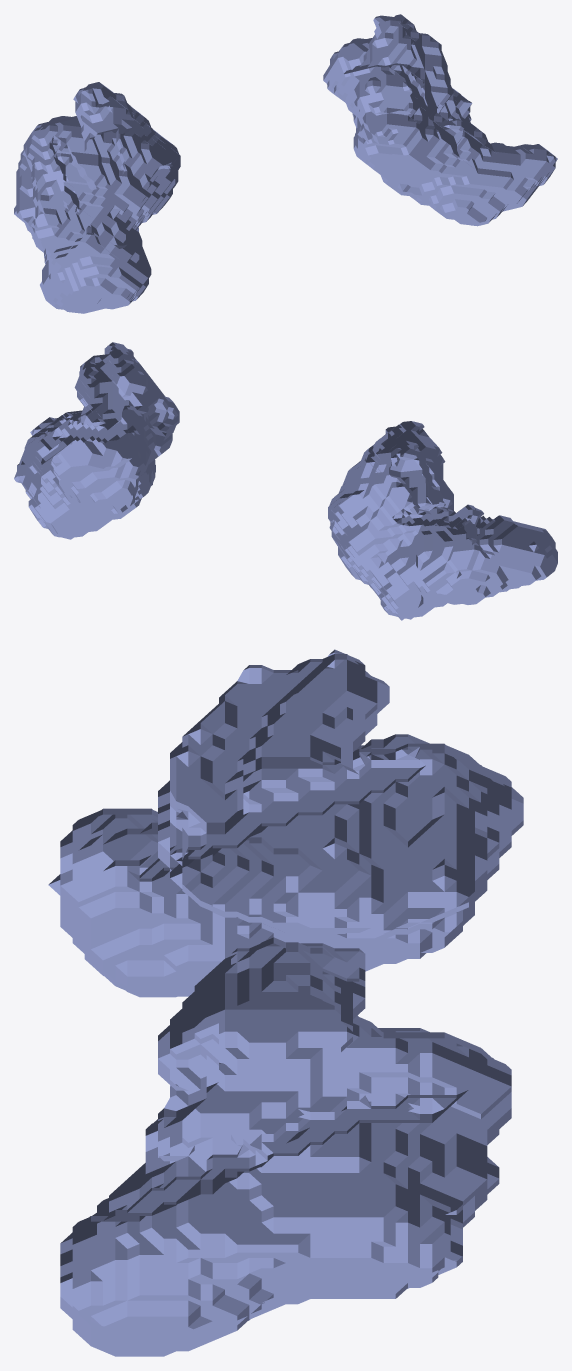
Rendered from region_0128_RT__rostral_tegmental_nucleus_.glb.
The picture shows the model from 3 angles, top to bottom: view 1: azimuth 30°, elevation 25°; view 2: azimuth 150°, elevation 25°; view 3: azimuth 270°, elevation 25°; orthographic projection. The views are drawn at different scales.
Parts seen in each view (by area): view 1: world; view 2: world; view 3: world.
Boxes of the visible parts, <box> form: world: <box>14,14,557,313</box>; world: <box>14,342,557,620</box>; world: <box>48,649,523,1356</box>.
Bounding box in the file's own units: 0.776 × 0.256 × 0.312.
